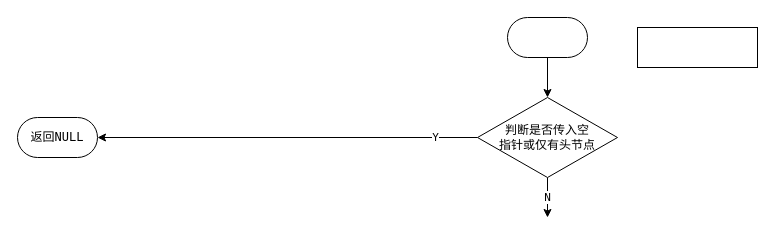
Some shapes in this 775 by 243 pixel diagram are drawn without their labels. Each missing label, with the centre of its shape:
"判断传入的所有指针是否有效" goes at (x=697, y=47).
"开始" goes at (x=547, y=37).
